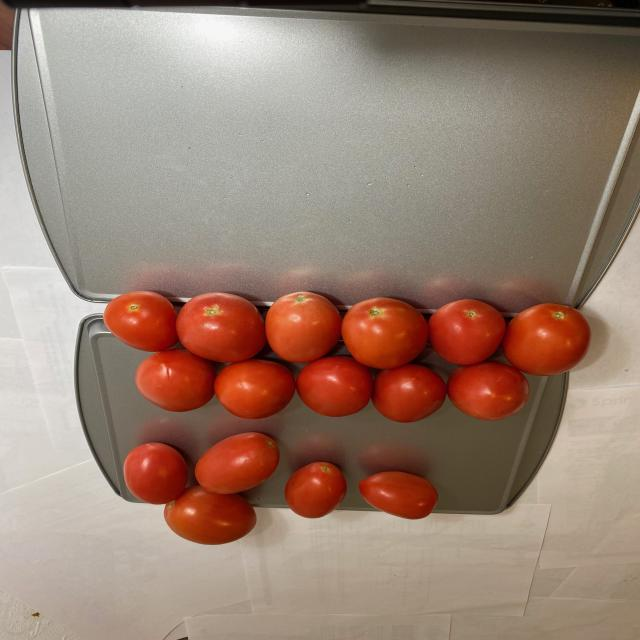tomato: (102, 282, 598, 418), (122, 432, 462, 552)
